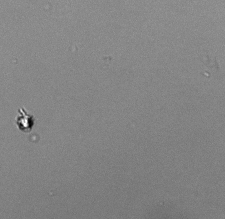Living Cell: (18, 114, 34, 131)
